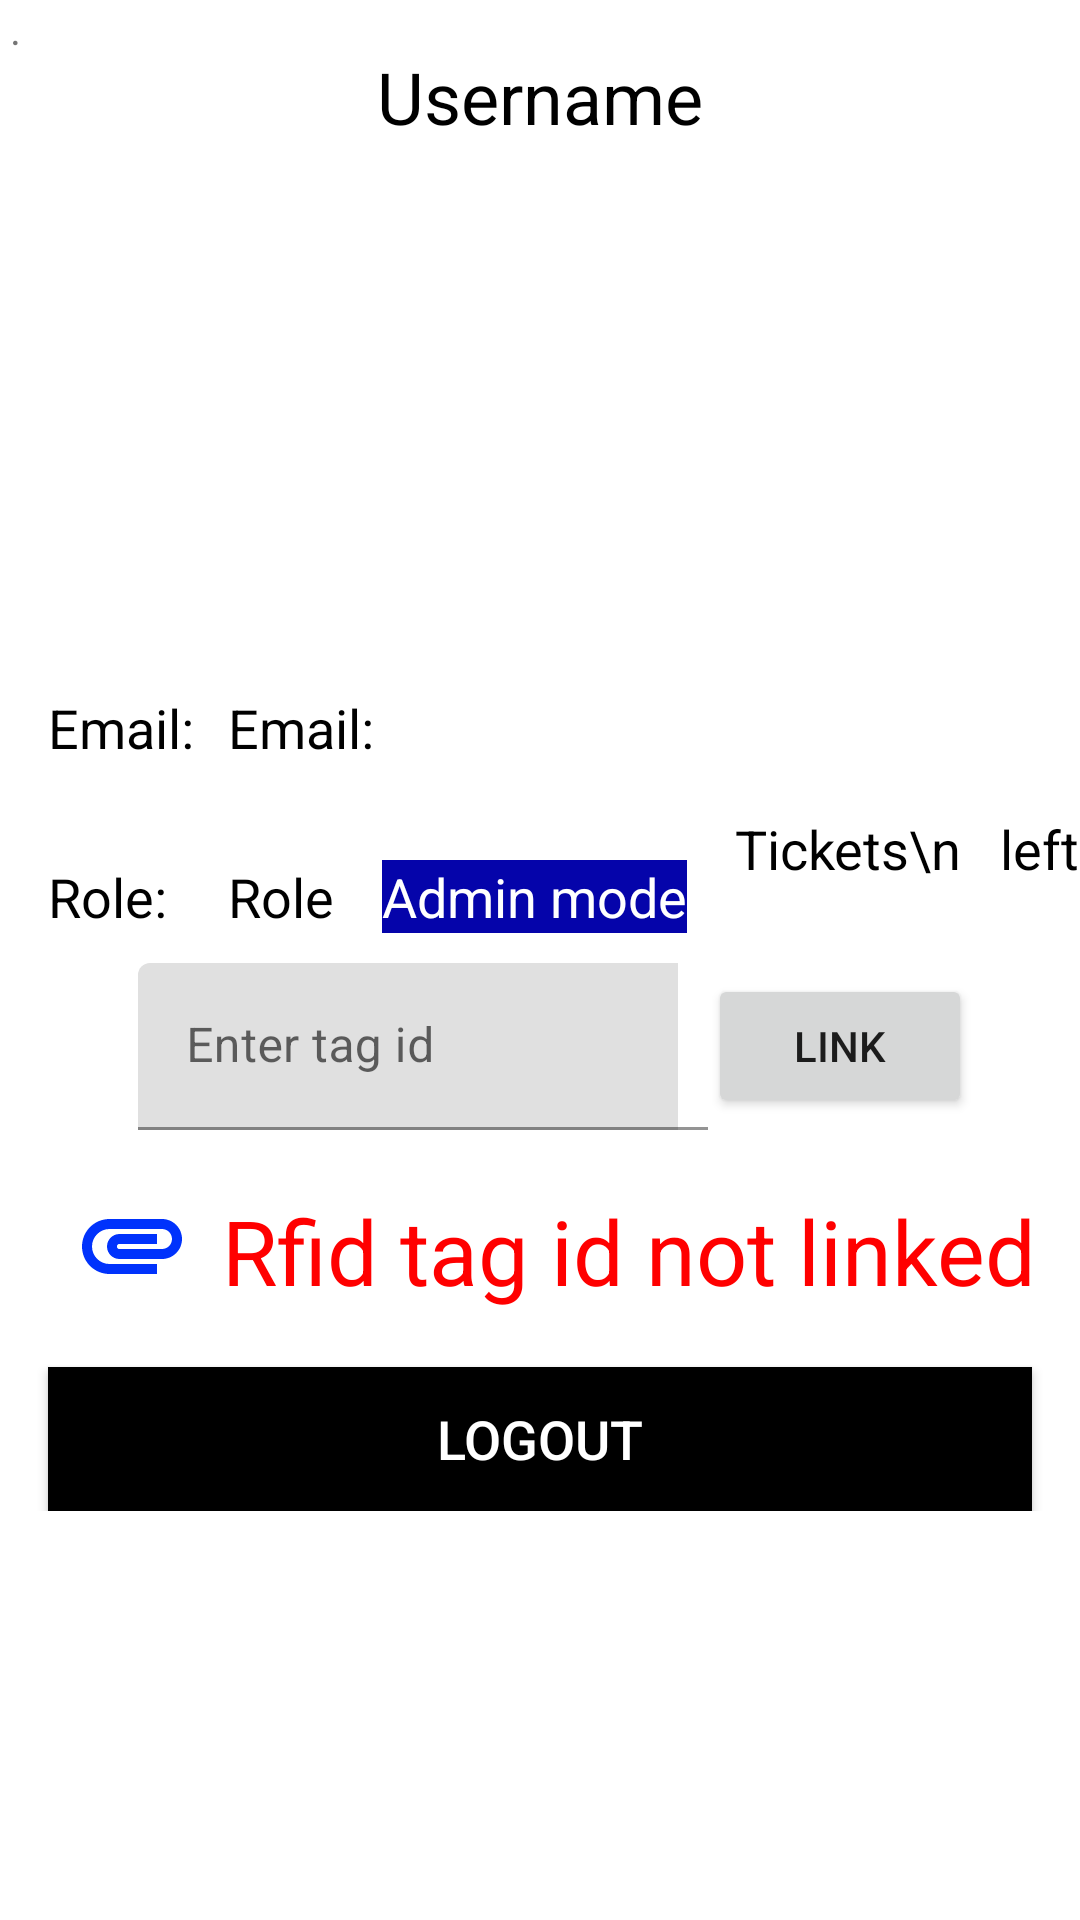

Named icons in this screenshot (1080px x 1920px) and their bounding boxes, bbox(x1, y1, x2, y2):
link tag: bbox(82, 1219, 182, 1274)
